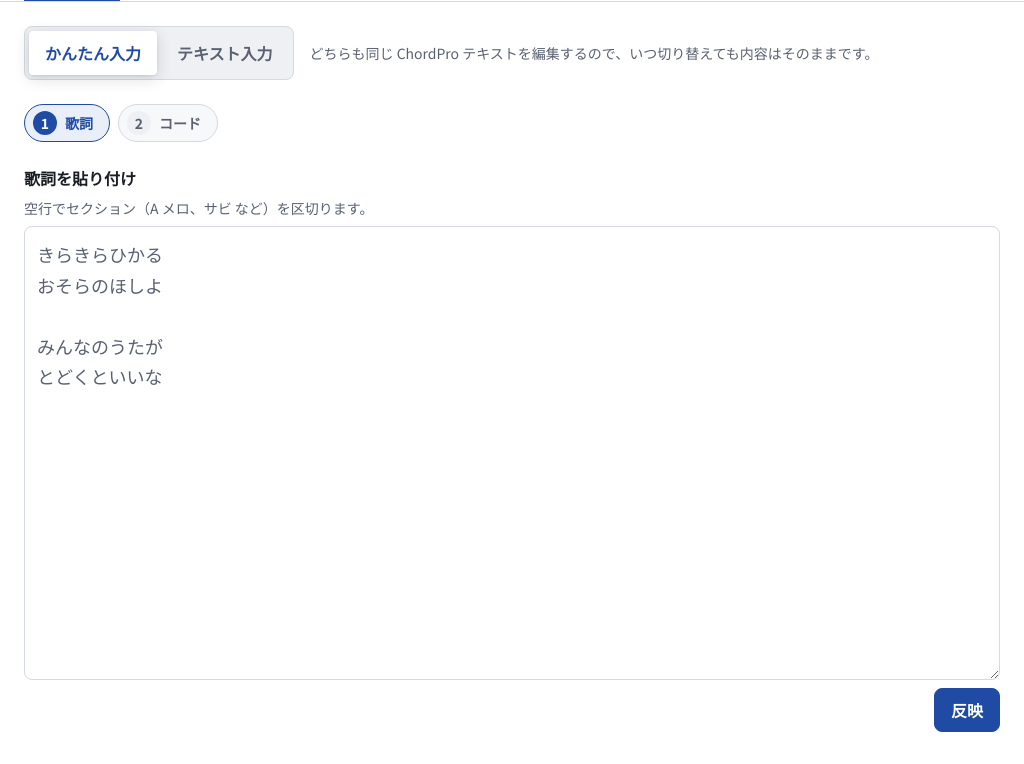
Test: App › keeps the editor A step-1 draft when switching to テキスト入力 and back
(page scrolled)
Type "あたらしいうた" into the text box labelled "歌詞を貼り付け".
click(512, 453); type("あたらしいうた")  # box top-left (24, 226), bottom-right (1000, 680)
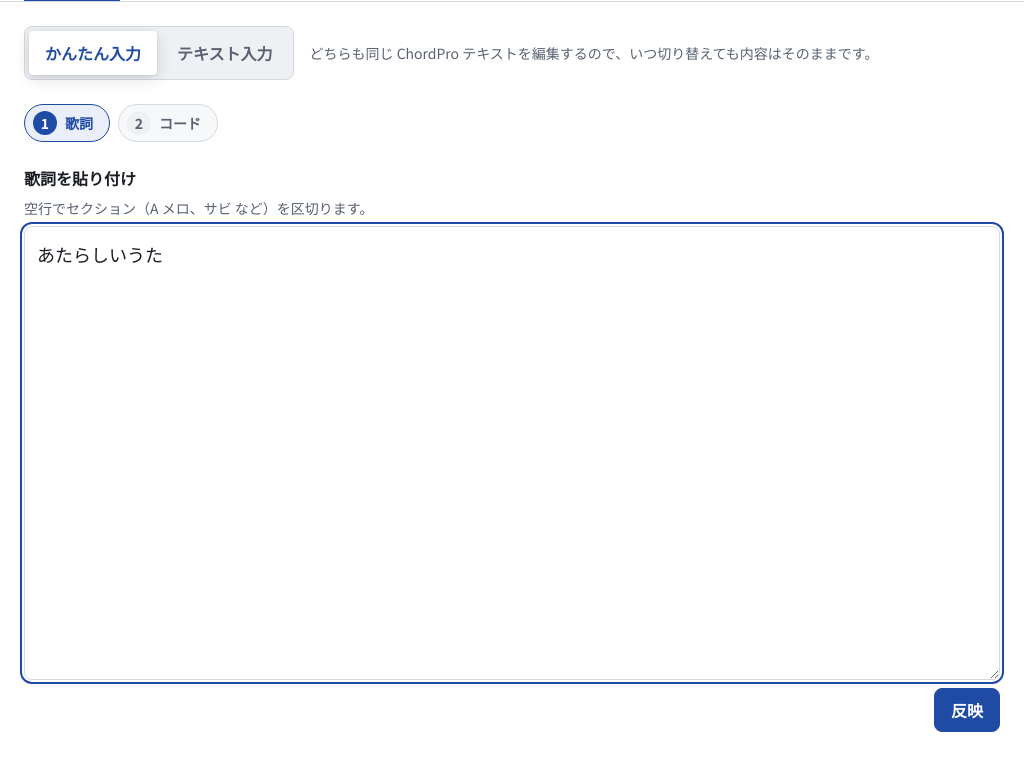
Click the button "テキスト入力".
click(225, 53)  # box top-left (161, 31), bottom-right (288, 75)
(page scrolled)
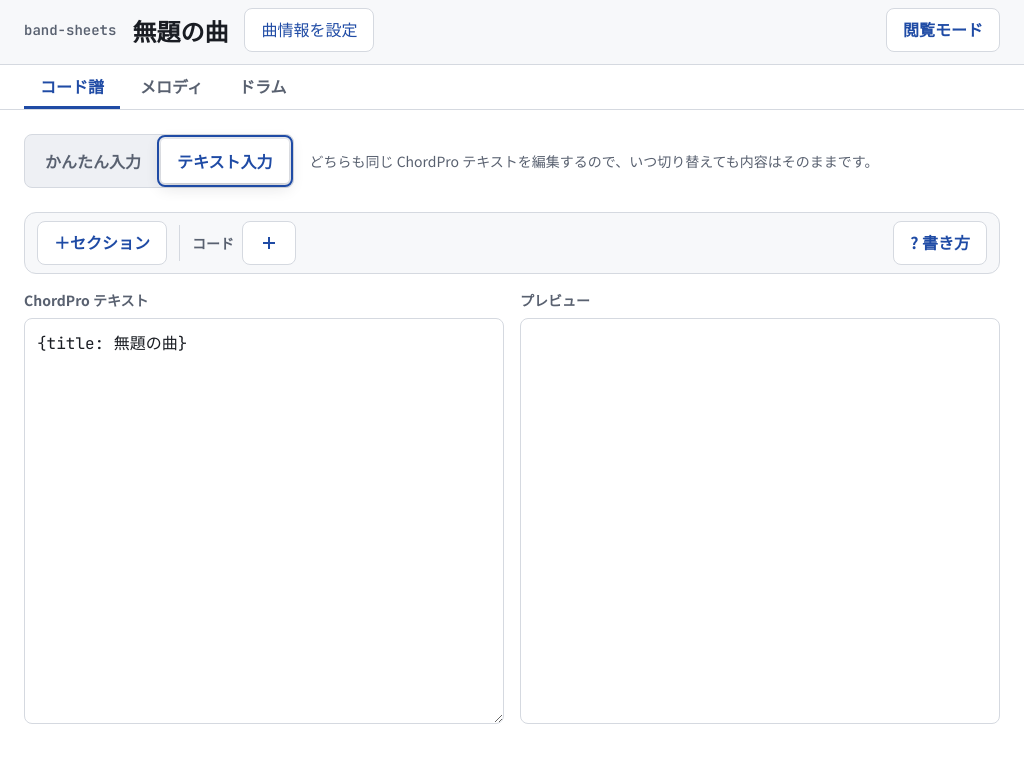
Expected: the label labelled "歌詞を貼り付け" is gone
Click the button "かんたん入力".
click(93, 161)  # box top-left (29, 139), bottom-right (157, 183)
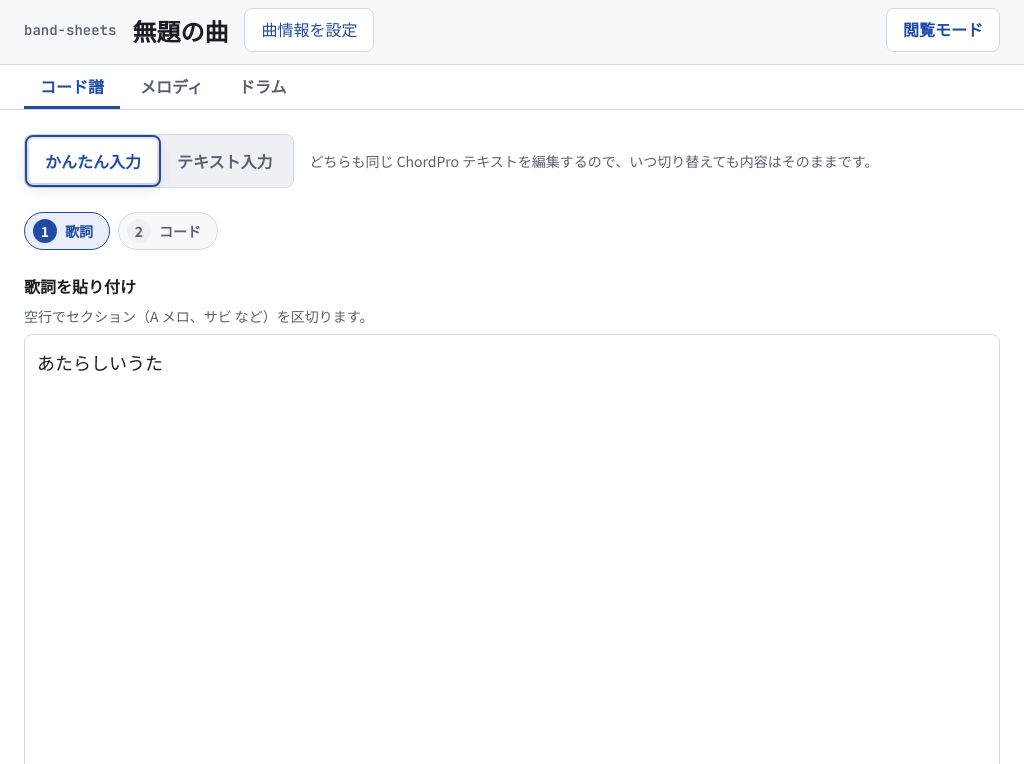
Expected: the list item "1 歌詞" is shown, top-left (24, 212), bottom-right (110, 250)
